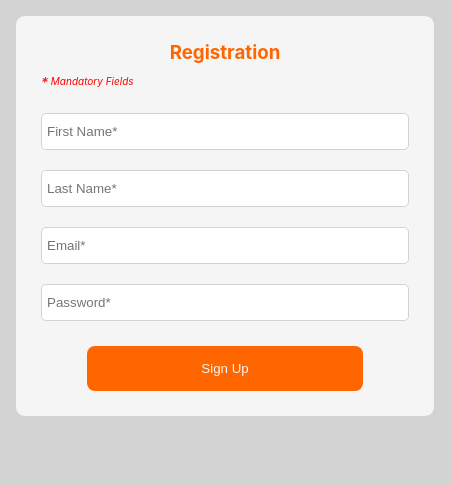
it: Registration component › validations for sign up › should validate password without uppercase letter
This screenshot has width=451, height=486.
Step 1. Type "password@123" into the password field with test id "password-field" → (225, 303), box [41,284,409,321]
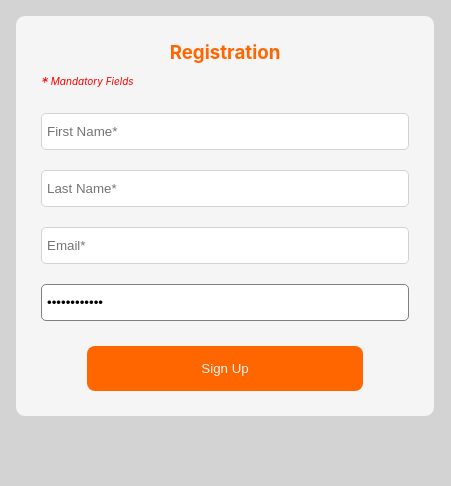
Step 2. Press Tab
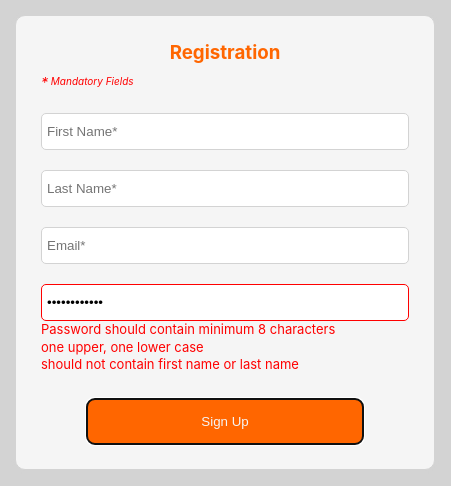
Now the text "one upper, one lower case" is shown, box [41,339,204,355]
